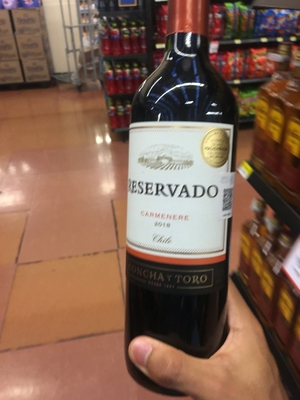reservado carmenere: (122, 6, 240, 378)
